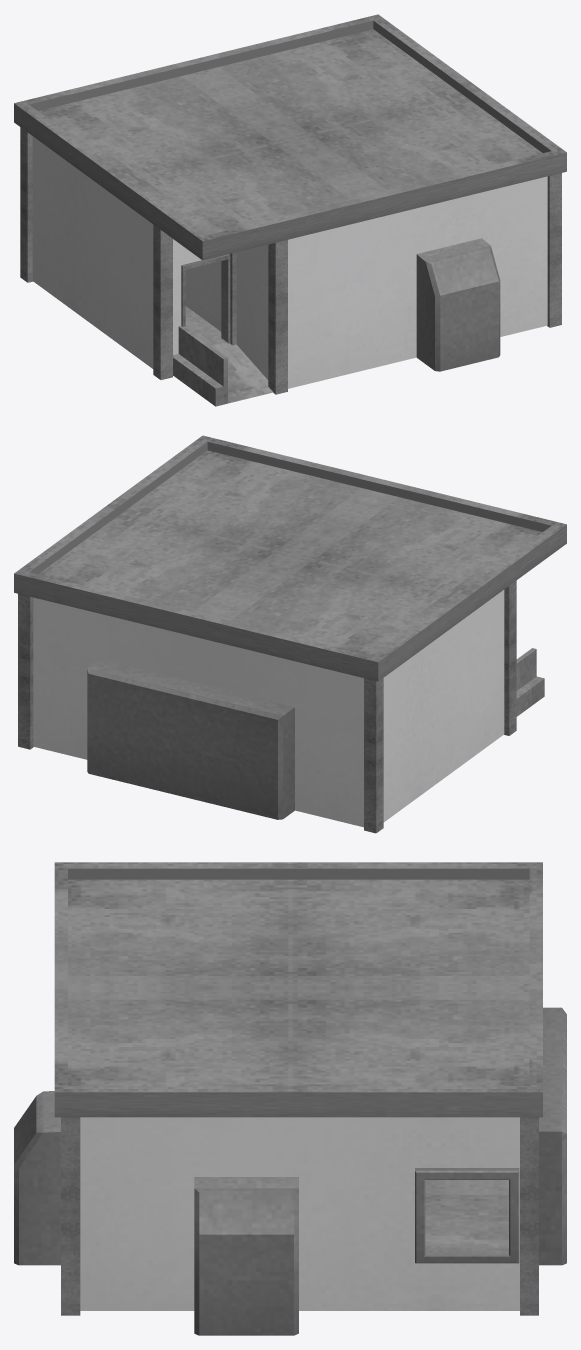
Rendered from Edificio 1.fbx.
The picture shows the model from 3 angles, top to bottom: view 1: azimuth 30°, elevation 25°; view 2: azimuth 150°, elevation 25°; view 3: azimuth 270°, elevation 25°; orthographic projection. The views are drawn at different scales.
Parts seen in each view (by area): view 1: pCube11; view 2: pCube11; view 3: pCube11.
Part boxes in pixels (left/top/right/bottom): pCube11: left=14, top=14, right=566, bottom=406; pCube11: left=14, top=435, right=566, bottom=833; pCube11: left=14, top=862, right=566, bottom=1335.
Size of the model in its own units: 1145 by 481 by 1072.
